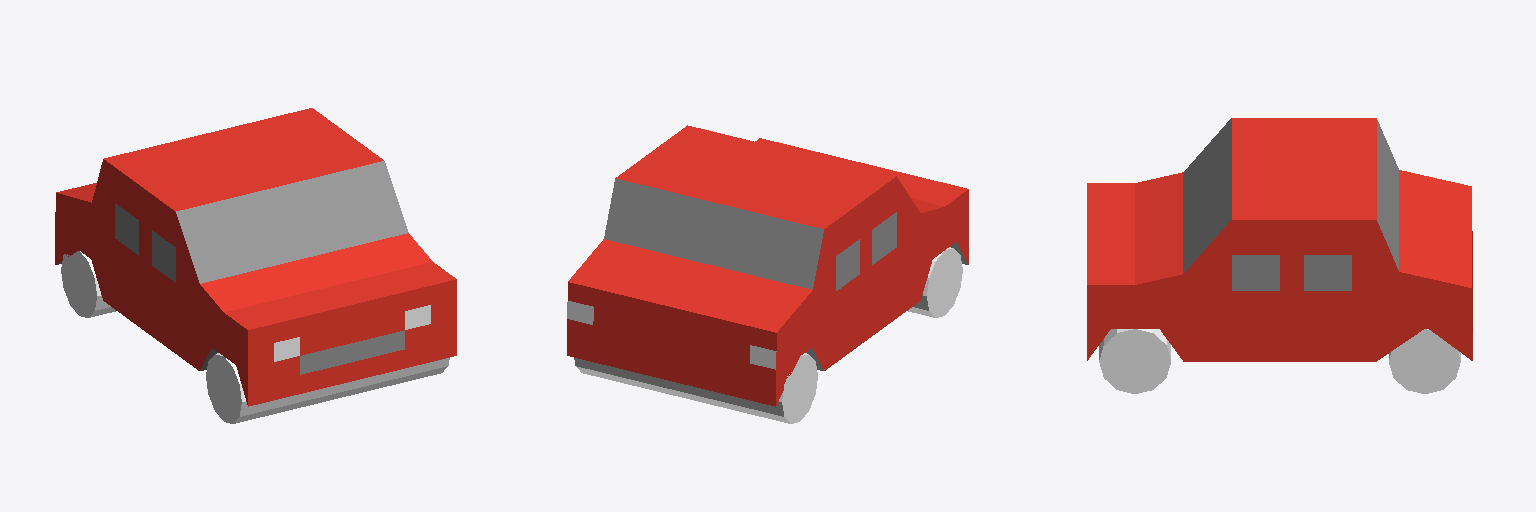
3 renders of one model, left to right at view 1: azimuth 30°, elevation 25°; view 2: azimuth 150°, elevation 25°; view 3: azimuth 270°, elevation 25°, orthographic.
Visible parts, largest first — view 1: group[number redacted], group[number redacted], group[number redacted]; view 2: group[number redacted], group[number redacted], group[number redacted]; view 3: group[number redacted], group[number redacted], group[number redacted].
Boxes of the visible parts, x1,y1,x2,y2 form: group[number redacted]: [55, 108, 456, 406]; group[number redacted]: [206, 353, 449, 423]; group[number redacted]: [61, 251, 115, 317]; group[number redacted]: [567, 125, 968, 406]; group[number redacted]: [574, 353, 817, 423]; group[number redacted]: [908, 247, 962, 317]; group[number redacted]: [1087, 118, 1472, 361]; group[number redacted]: [1099, 329, 1170, 393]; group[number redacted]: [1389, 329, 1460, 393].
Bounding box in the file's own units: 0.2 × 0.16 × 0.32.